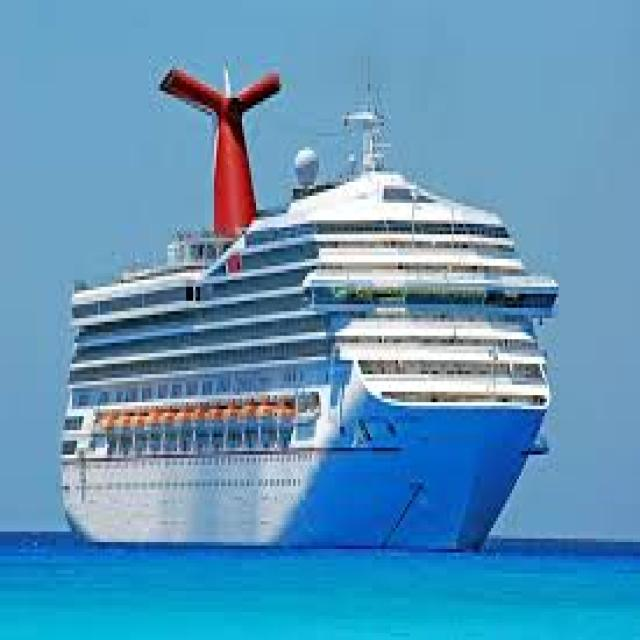PassengerShip: (34, 31, 588, 575)
